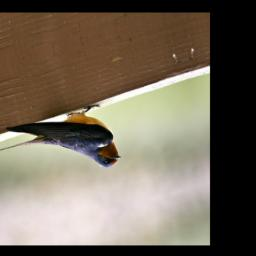Swallow: (0, 96, 124, 204)
